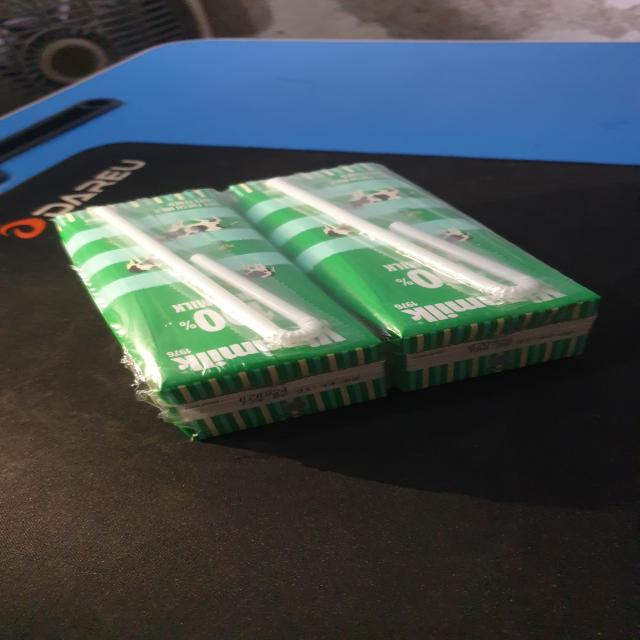Vina: (222, 160, 605, 395), (48, 188, 393, 446)
